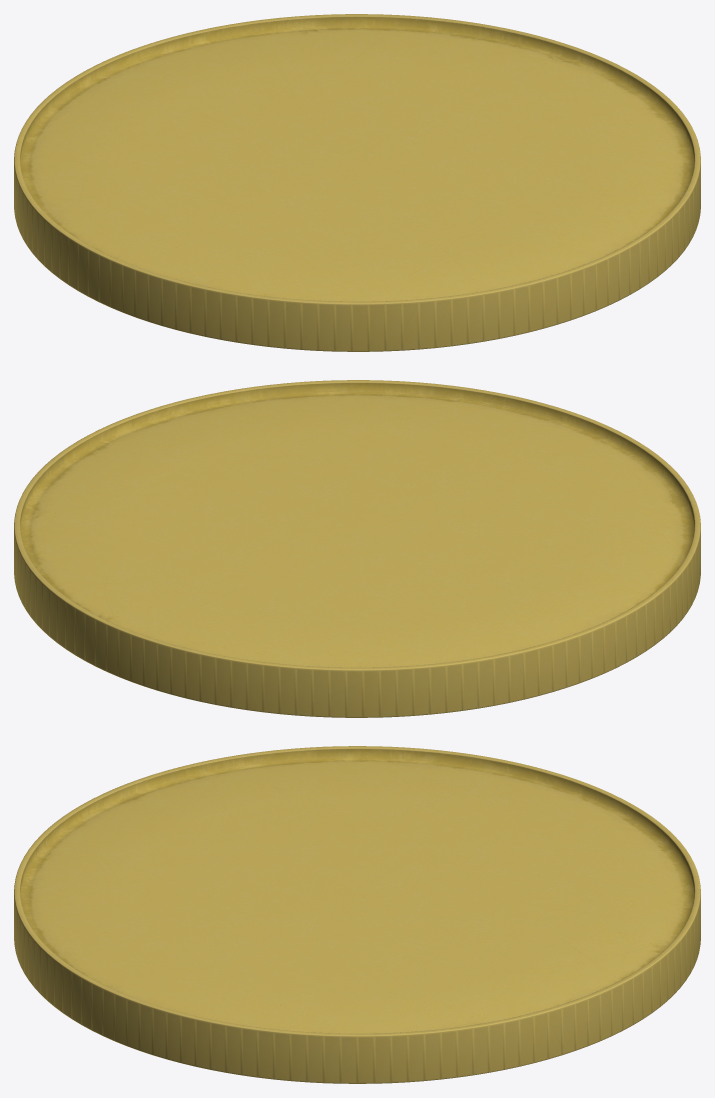
3 renders of one model, top to bottom at view 1: azimuth 30°, elevation 25°; view 2: azimuth 150°, elevation 25°; view 3: azimuth 270°, elevation 25°, orthographic.
Visible parts, largest first — view 1: coin 1_0; view 2: coin 1_0; view 3: coin 1_0.
Boxes of the visible parts, x1,y1,x2,y2 form: coin 1_0: [14, 14, 700, 351]; coin 1_0: [14, 380, 700, 717]; coin 1_0: [14, 746, 700, 1083].
Bounding box in the file's own units: 2 × 0.155 × 2.
1 material, 1 textured.
